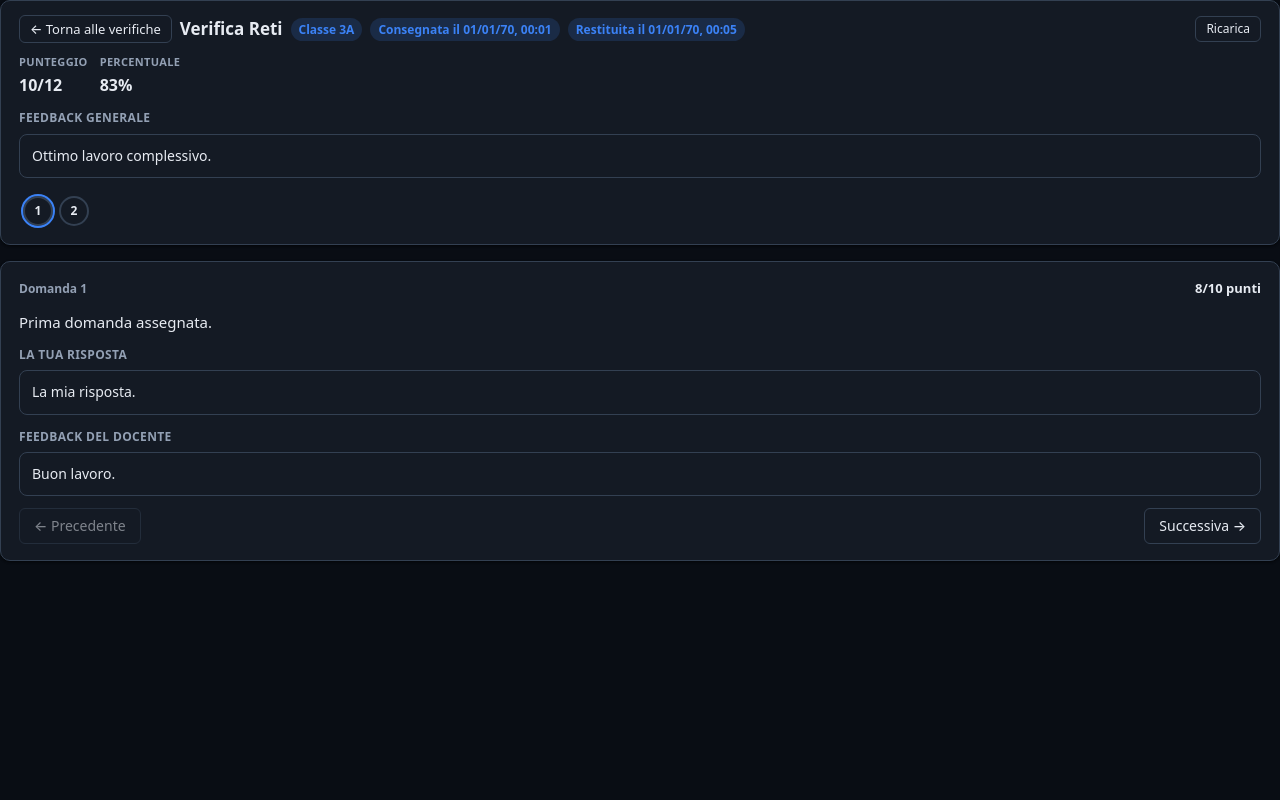
Test case: StudentCorrectionView — question navigation and content › usa una numerazione locale densa quando gli order assegnati hanno buchi
expect the text "Domanda 1" is shown: met, box [19, 279, 87, 298]
expect the button named "Vai alla domanda 1" is shown: met, box [23, 196, 53, 226]
Click the button named "Vai alla domanda 2": [74, 211] box [59, 196, 89, 226]
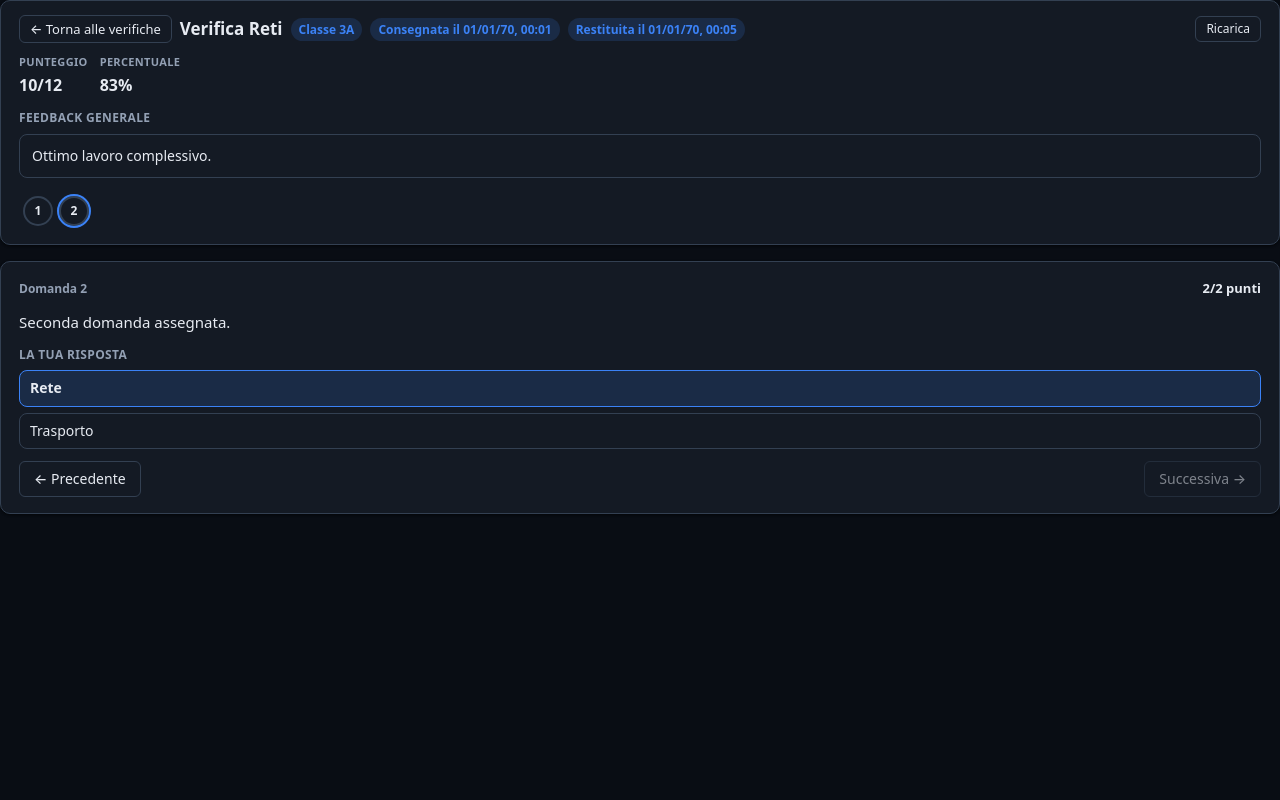
expect the text "Domanda 2" is shown: met, box [19, 279, 87, 298]
expect the text "Seconda domanda assegnata." is shown: met, box [19, 312, 230, 332]
